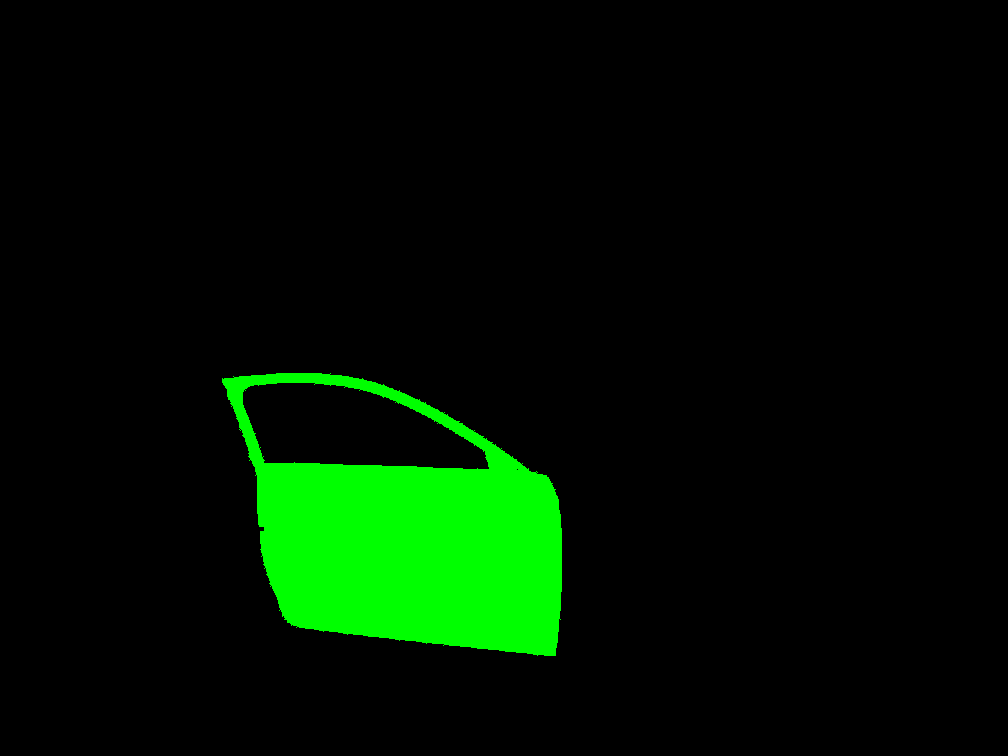car_door: (222, 373, 561, 655)
